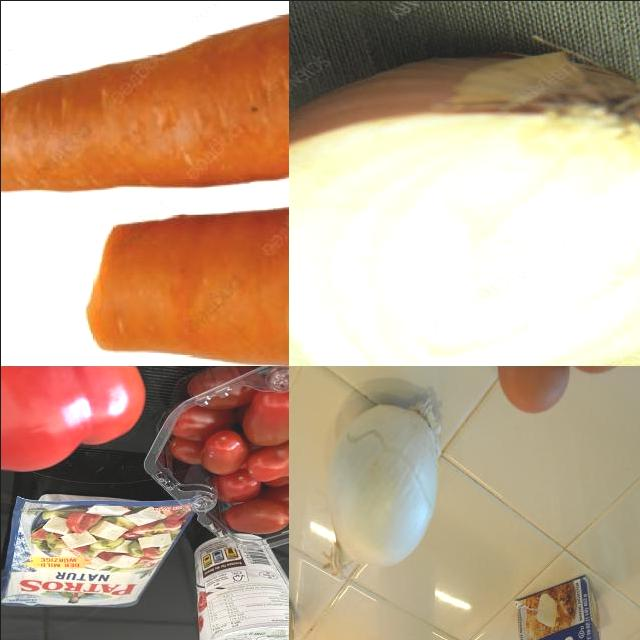bell_pepper: (1, 366, 162, 480)
carrot: (1, 1, 289, 205), (83, 200, 289, 366)
egg: (484, 366, 586, 435), (543, 366, 640, 388)
onion: (289, 46, 640, 366), (311, 382, 457, 582)
tomato: (152, 366, 289, 515)
